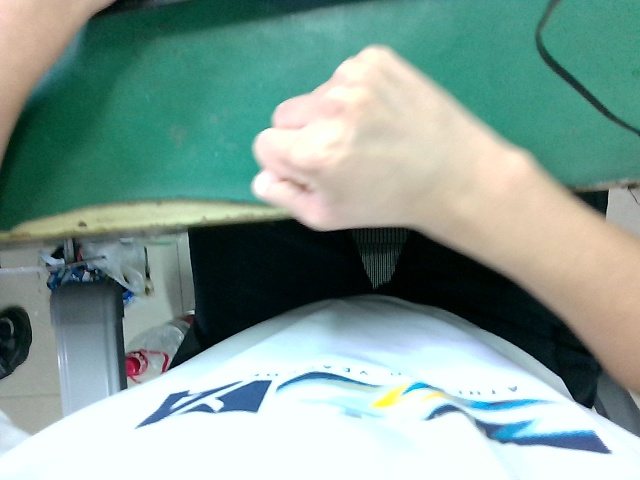stone: (248, 37, 535, 270)
